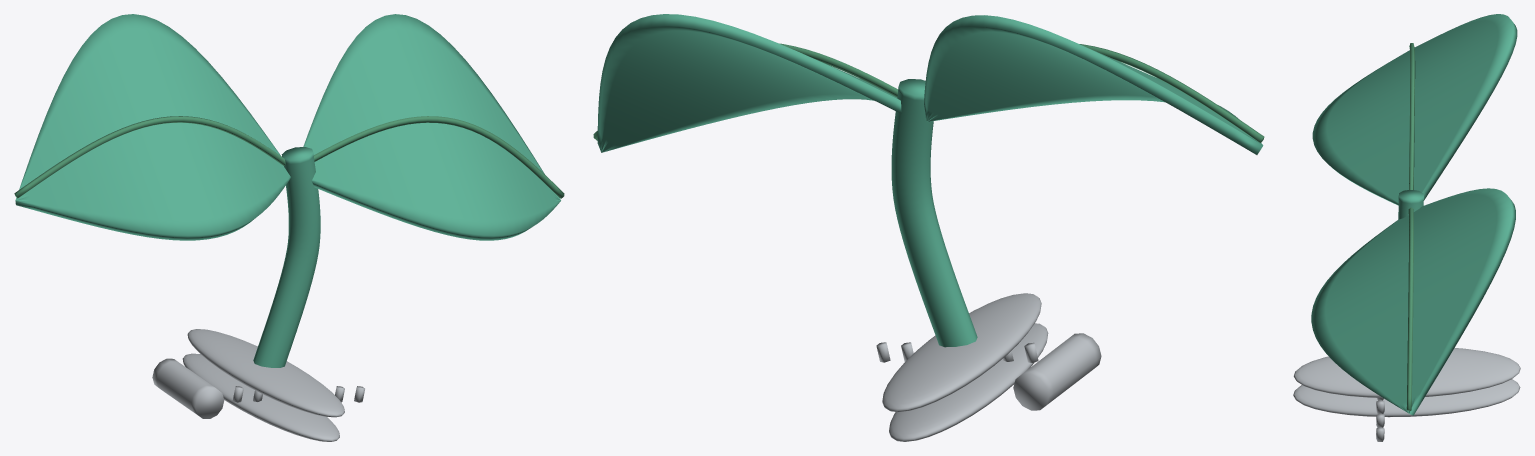
File: Masculine-curly-top-pashmina249-sprout.glb
3 views of the same model, side by side, from view 1: azimuth 30°, elevation 25°; view 2: azimuth 150°, elevation 25°; view 3: azimuth 270°, elevation 25° (orthographic). The views are drawn at different scales.
Parts seen in each view (by area): view 1: 226 extra / Accessory / mint226, 226 extra / Sprout / clip silver235, 226 extra / Sprout / leaf vein235; view 2: 226 extra / Accessory / mint226, 226 extra / Sprout / clip silver235, 226 extra / Sprout / leaf vein235; view 3: 226 extra / Accessory / mint226, 226 extra / Sprout / clip silver235, 226 extra / Sprout / leaf vein235.
Boxes of the visible parts, x1,y1,x2,y2 form: 226 extra / Accessory / mint226: [15, 14, 560, 367]; 226 extra / Sprout / clip silver235: [152, 329, 364, 441]; 226 extra / Sprout / leaf vein235: [14, 116, 564, 198]; 226 extra / Accessory / mint226: [597, 14, 1263, 347]; 226 extra / Sprout / clip silver235: [876, 293, 1101, 441]; 226 extra / Sprout / leaf vein235: [593, 43, 1264, 143]; 226 extra / Accessory / mint226: [1311, 14, 1517, 415]; 226 extra / Sprout / clip silver235: [1293, 348, 1520, 441]; 226 extra / Sprout / leaf vein235: [1406, 43, 1415, 410].
Size of the model in its own units: 0.2647 by 0.1727 by 0.1038.
